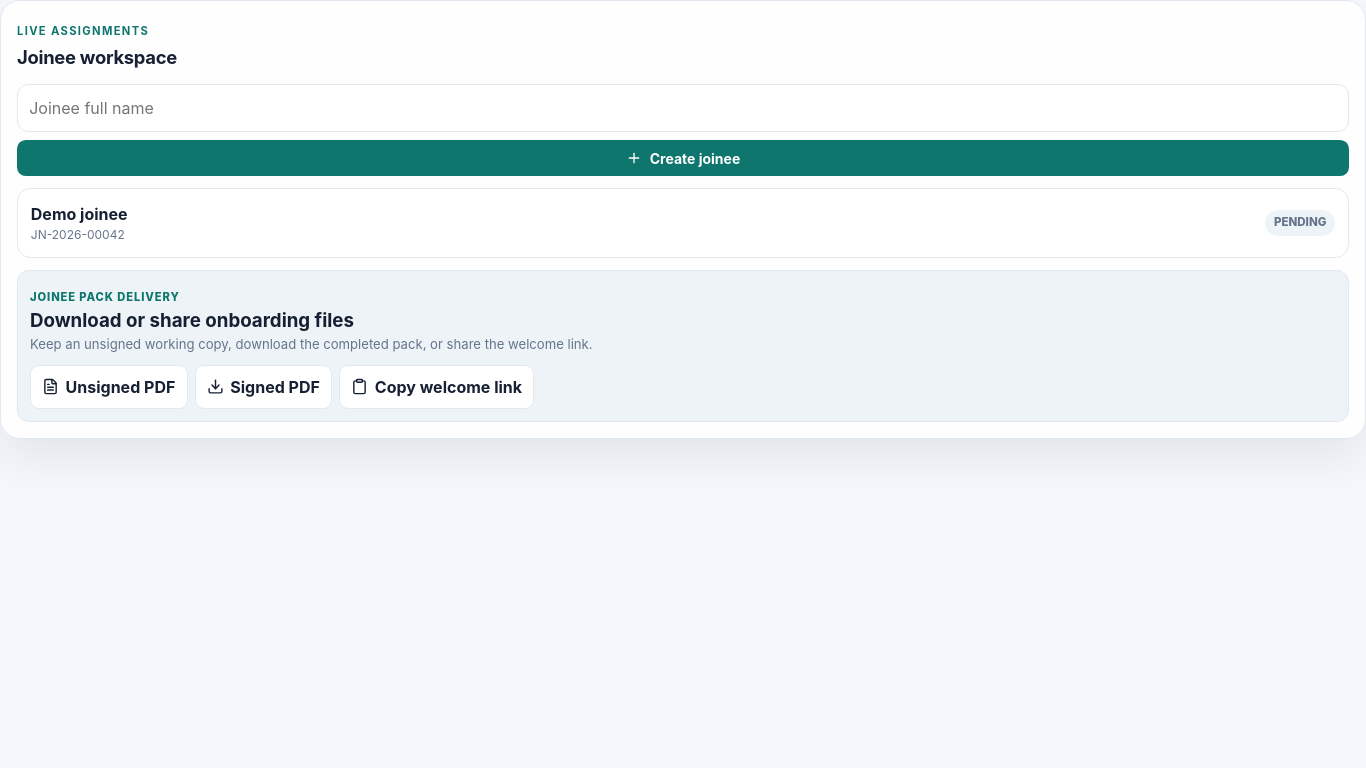
Test: JoineeManager › creates a trimmed joinee assignment with an access code
Type "  Maya Rao  " into the field with placeholder "Joinee full name" at {"x": 683, "y": 108}, box [17, 84, 1349, 132]
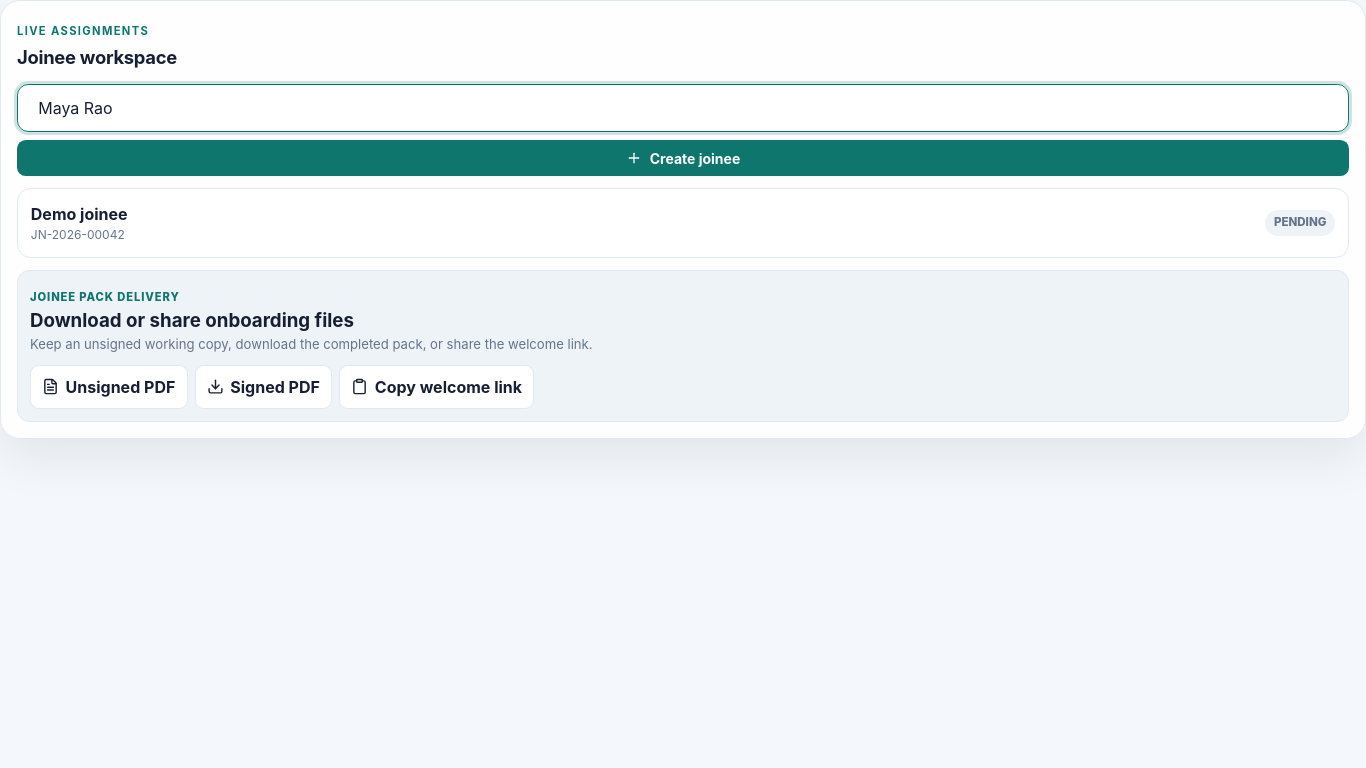
Click the button "Create joinee" at {"x": 683, "y": 158}, box [17, 140, 1349, 176]
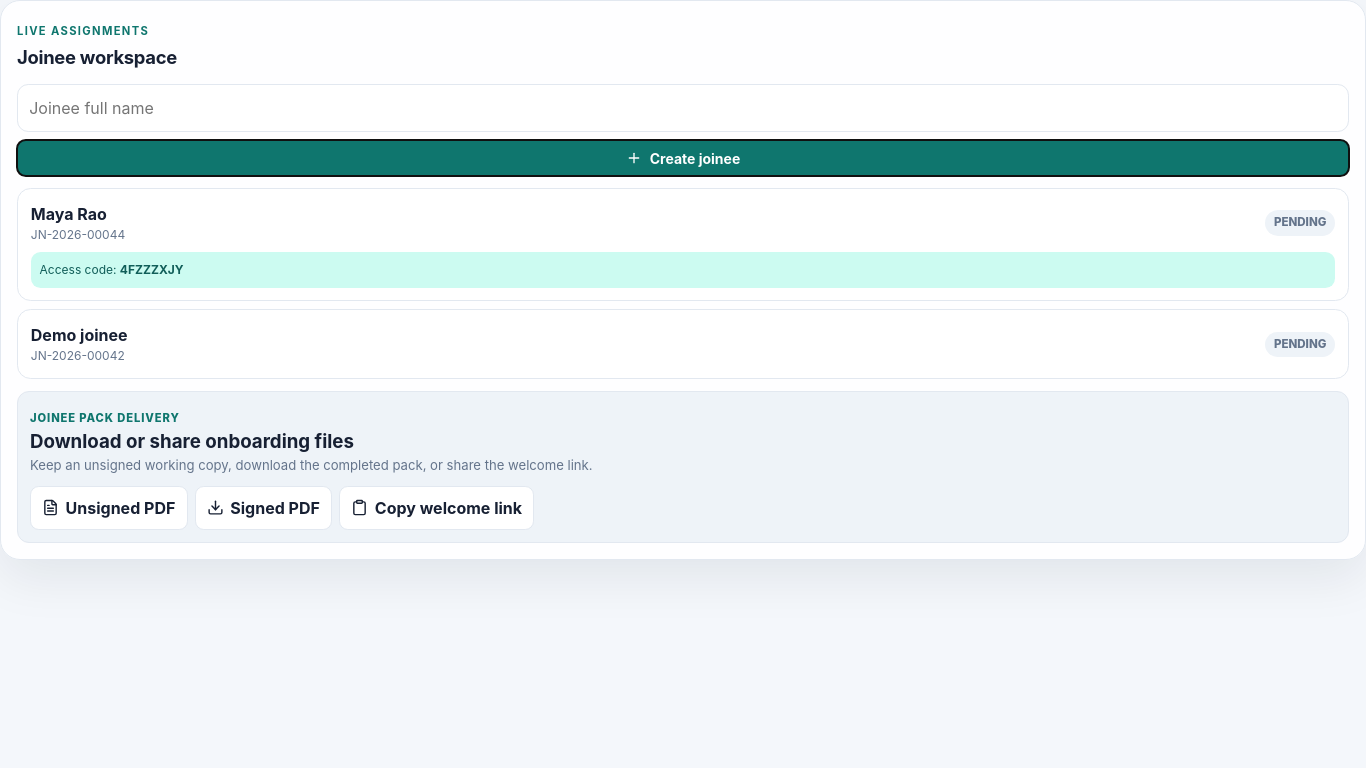
Check: the text "Maya Rao" is shown, box [31, 204, 107, 224]
Check: the text "Access code:" is shown, box [40, 262, 120, 277]
Check: the text "PENDING" is shown 2 times, box [1265, 210, 1335, 236]; [1265, 332, 1335, 357]
